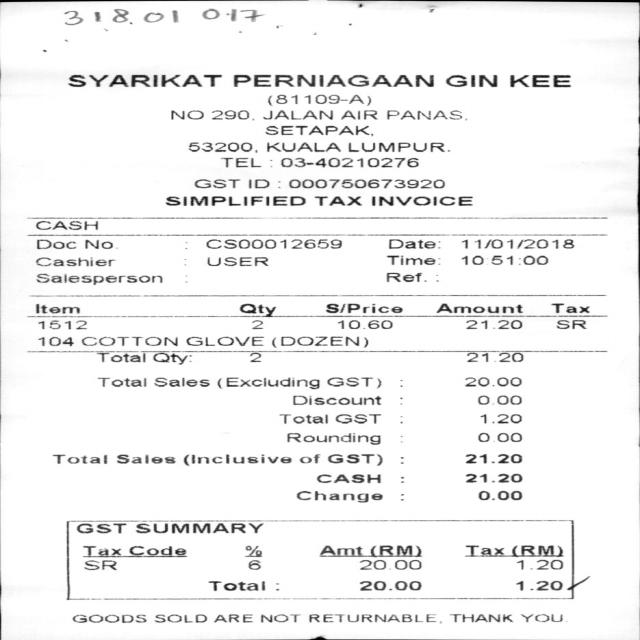text: (233, 75, 432, 86), (66, 75, 220, 86), (35, 273, 160, 285), (134, 522, 264, 533), (287, 179, 443, 188), (279, 157, 417, 167), (205, 239, 342, 249), (34, 254, 114, 270), (164, 196, 305, 205), (222, 375, 318, 388), (318, 545, 421, 557), (286, 432, 379, 445), (182, 454, 290, 465), (308, 614, 439, 623), (264, 125, 371, 136), (270, 336, 366, 348), (267, 94, 369, 105), (460, 238, 572, 248), (507, 543, 564, 561), (346, 142, 448, 152), (296, 490, 380, 502), (80, 336, 176, 346), (437, 303, 521, 314), (370, 196, 471, 205), (291, 395, 379, 404), (508, 74, 568, 87), (184, 336, 262, 346), (324, 303, 410, 312), (266, 142, 340, 152), (33, 219, 100, 230), (385, 110, 465, 119), (188, 142, 255, 152), (326, 453, 381, 465), (360, 579, 420, 590), (445, 74, 495, 87), (262, 110, 331, 119), (358, 559, 419, 569), (206, 256, 266, 266), (325, 377, 379, 388), (70, 614, 144, 622), (336, 318, 394, 328), (462, 376, 520, 386), (315, 474, 378, 483), (464, 319, 520, 329), (449, 613, 511, 622), (94, 351, 144, 362), (131, 546, 184, 556), (463, 473, 521, 482), (206, 581, 264, 590), (490, 255, 547, 264), (465, 352, 522, 361), (387, 238, 438, 248), (74, 523, 125, 533), (151, 351, 190, 364), (464, 454, 520, 463), (50, 454, 106, 463), (35, 319, 85, 329), (276, 413, 326, 423), (237, 303, 274, 316), (385, 255, 438, 264), (117, 454, 170, 463), (515, 559, 562, 569), (464, 543, 503, 555), (218, 156, 260, 167), (34, 304, 80, 314), (334, 413, 379, 423), (477, 490, 521, 500), (96, 378, 144, 387), (158, 378, 206, 387), (550, 303, 593, 313), (514, 581, 561, 590), (478, 413, 520, 423), (153, 614, 205, 622), (314, 196, 360, 205), (193, 179, 238, 188), (476, 395, 520, 404), (477, 432, 521, 441), (81, 546, 120, 556), (36, 239, 74, 249), (385, 272, 423, 282), (339, 109, 376, 119), (35, 336, 72, 346), (211, 110, 252, 119), (554, 317, 586, 328), (212, 613, 251, 622), (83, 560, 115, 570), (520, 614, 560, 622), (258, 614, 298, 622), (170, 110, 202, 119), (242, 543, 260, 556), (84, 240, 111, 248), (459, 255, 483, 264), (298, 454, 319, 464), (246, 179, 268, 188), (246, 559, 259, 569), (250, 319, 261, 329), (249, 352, 260, 361), (26, 351, 58, 352)
